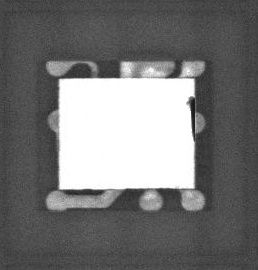DIE_BROKEN: (185, 93, 197, 142)
